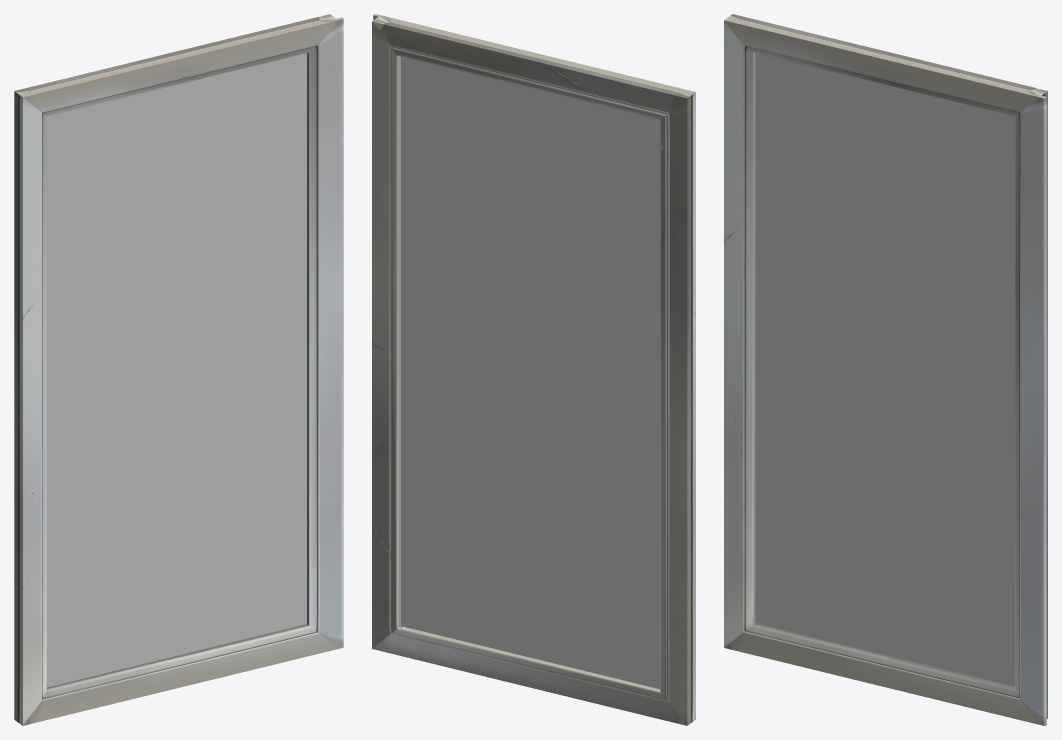
The model's file is LeftWindow.fbx.
3 renders of one model, left to right at view 1: azimuth 30°, elevation 25°; view 2: azimuth 150°, elevation 25°; view 3: azimuth 330°, elevation 25°, orthographic.
Parts seen in each view (by area): view 1: LeftWindow; view 2: LeftWindow; view 3: LeftWindow.
Part boxes in pixels (<box>): LeftWindow: <box>14,14,343,725</box>; LeftWindow: <box>372,14,695,725</box>; LeftWindow: <box>724,14,1047,725</box>.
Bounding box in the file's own units: 67.41 × 126 × 3.46.
Materials: 2 (1 with a texture image).
